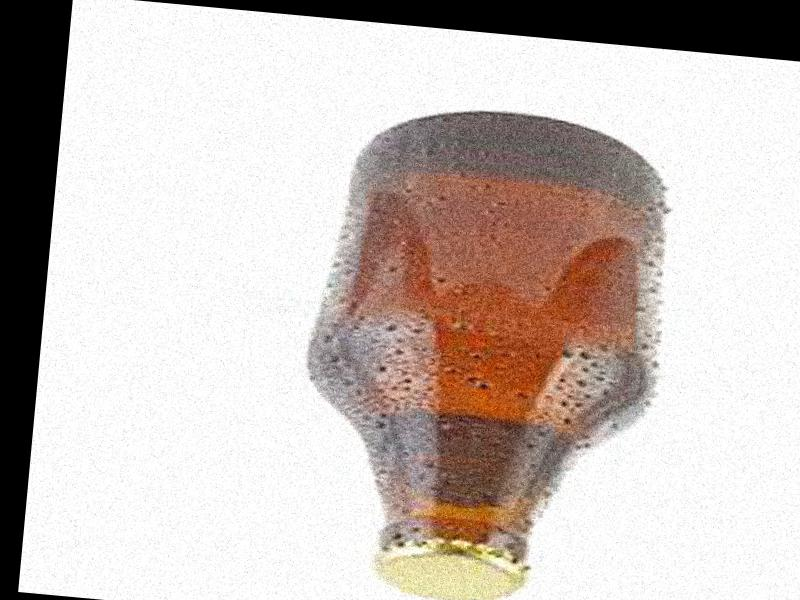Beer: (312, 101, 670, 600)
